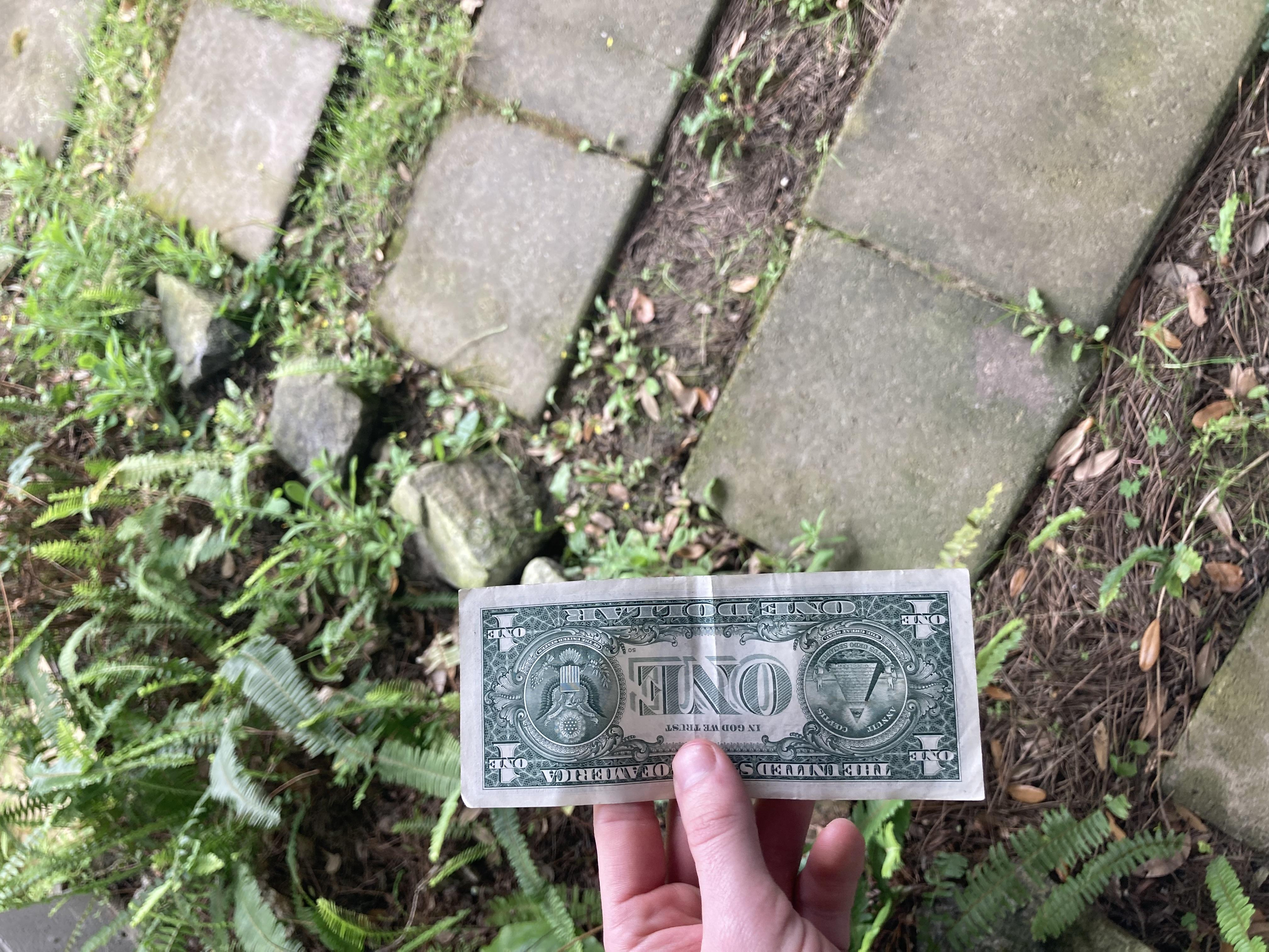one-back: (195, 343, 515, 740)
